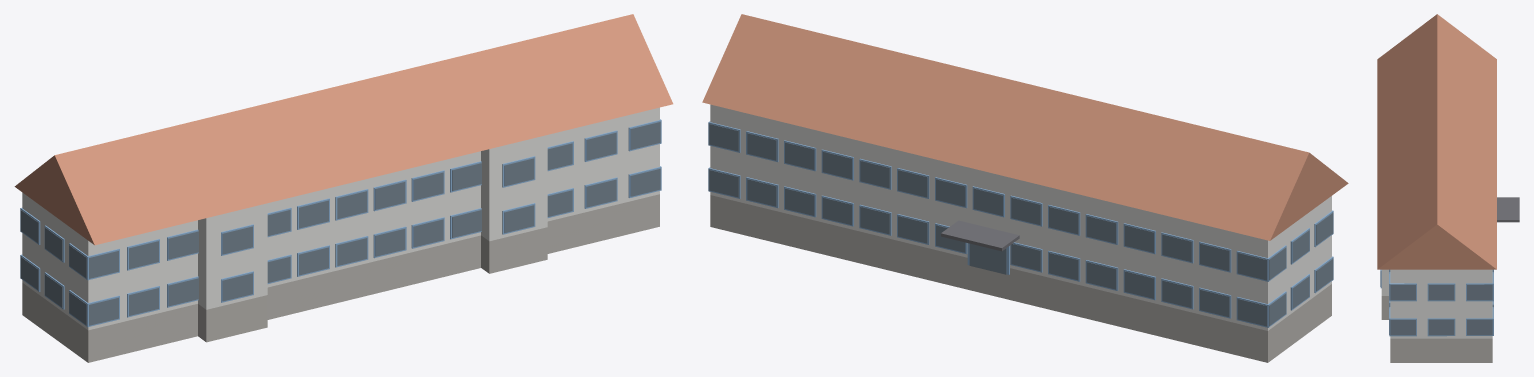
Rendered from school-christliche-schule-kandern.glb.
3 views of the same model, side by side, from view 1: azimuth 30°, elevation 25°; view 2: azimuth 150°, elevation 25°; view 3: azimuth 270°, elevation 25° (orthographic). The views are drawn at different scales.
Parts seen in each view (by area): view 1: building; view 2: building; view 3: building.
Boxes of the visible parts, bbox=[...] form: building: bbox=[14, 14, 673, 362]; building: bbox=[702, 14, 1348, 362]; building: bbox=[1377, 14, 1519, 362].
Bounding box in the file's own units: 46.51 × 14.47 × 13.28.
